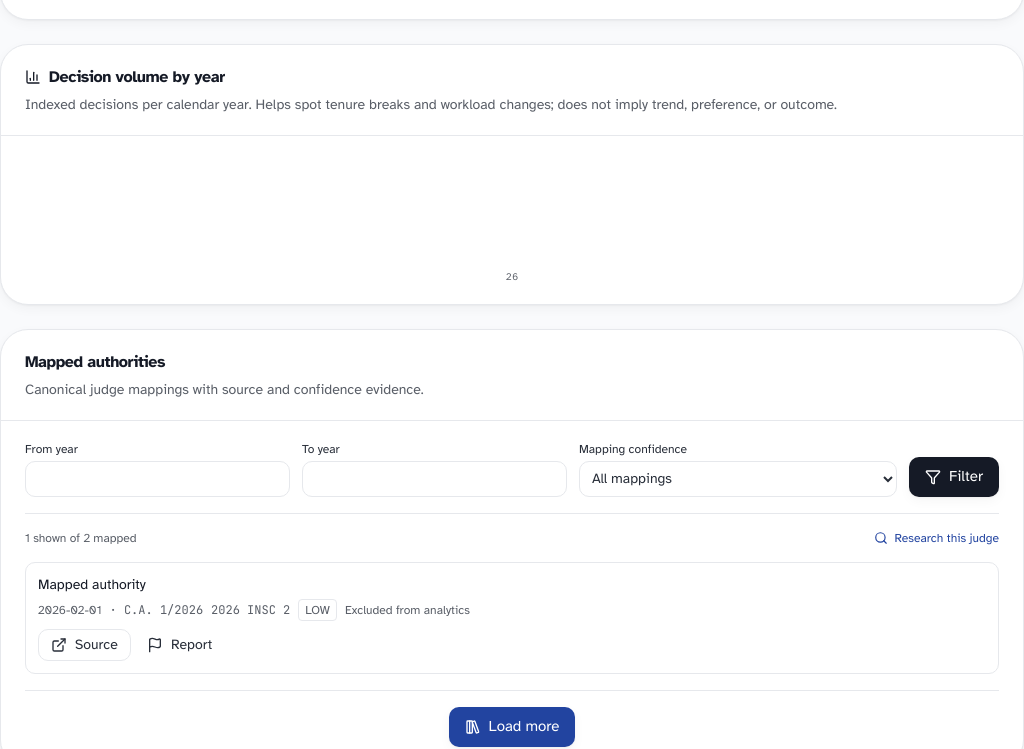
Test: JudgeProfilePage › appends the next page to authorities embedded in the profile
(page scrolled)
expect the text "Mapped authority" is shown: met, box [38,576,146,592]
Click the button "Load more". click: (512, 726)
box: [449,706,575,746]
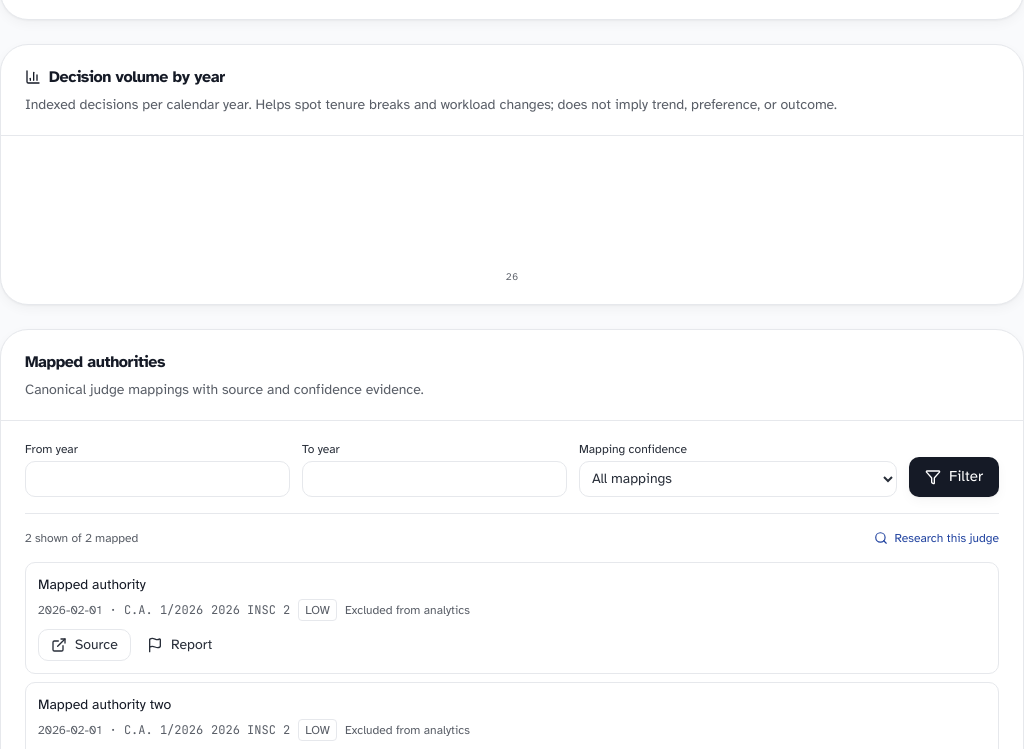
expect the text "Mapped authority" is shown: met, box [38,576,146,592]
expect the text "Mapped authority two" is shown: met, box [38,696,171,712]
expect the text "2 shown of 2 mapped" is shown: met, box [25,530,138,546]
